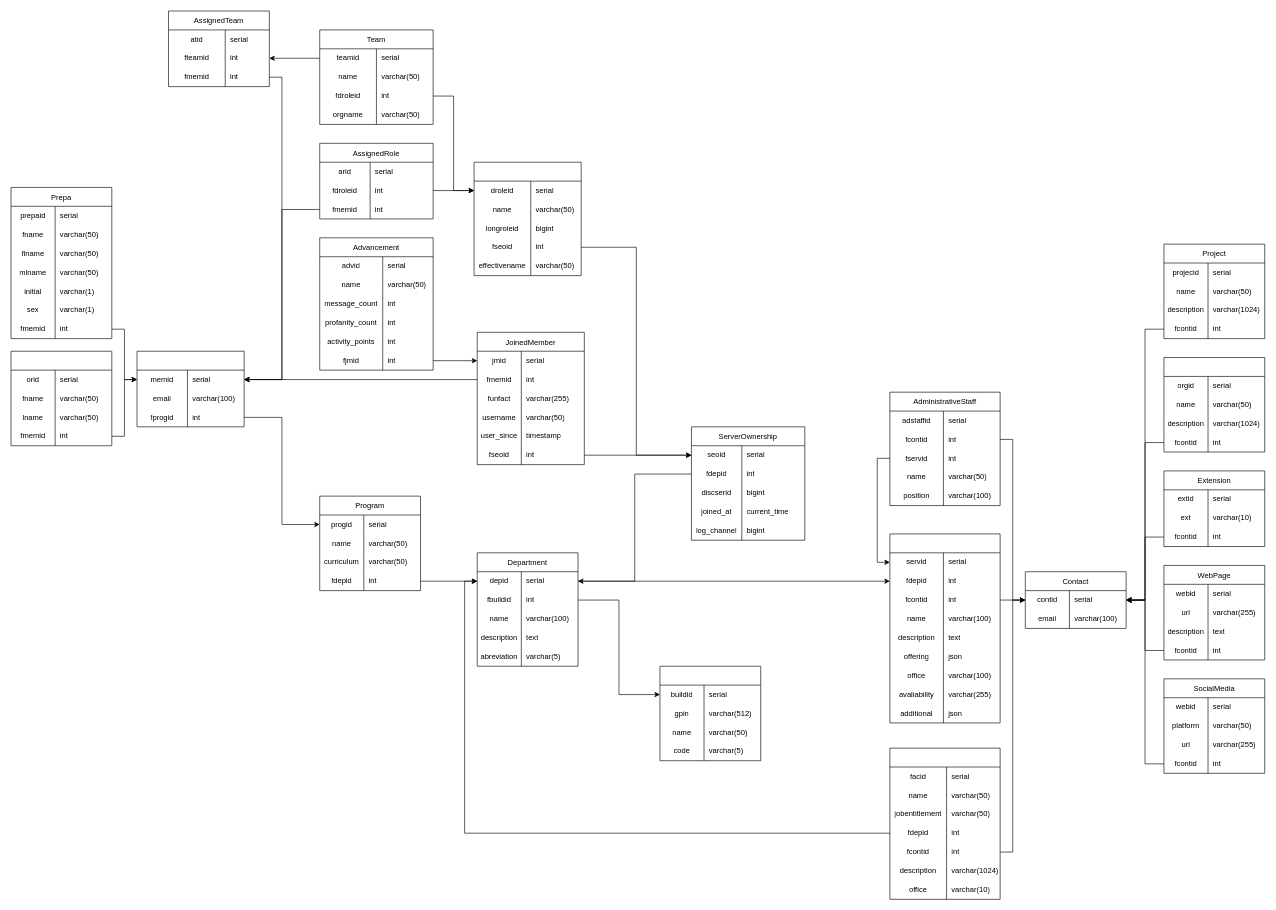
This 1276x910 diagram has some shape labels left out. The box of each missing label's shape, as (x1, y1, x2, y2) in pixels:
Building: (659, 666, 761, 761)
DiscordRole: (473, 162, 581, 276)
Faculty: (889, 747, 1000, 899)
Member: (136, 351, 244, 427)
Organization: (1163, 357, 1265, 452)
Orientador: (10, 351, 112, 446)
Service: (889, 533, 1000, 723)
